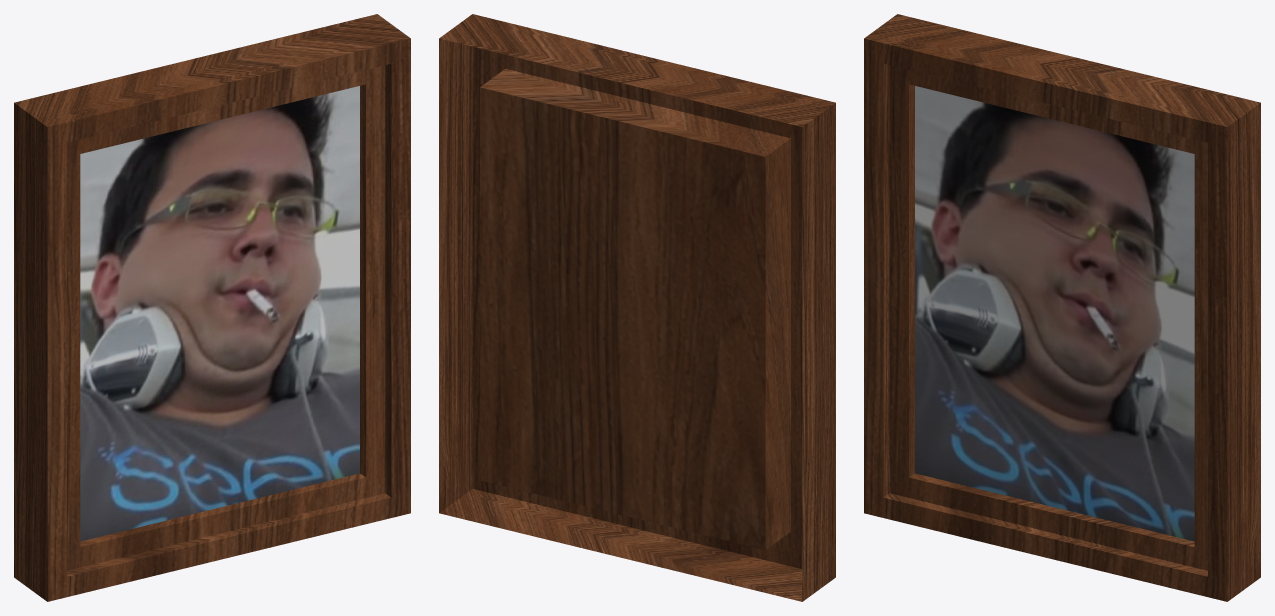
File: PROP_quadro_1.glb
The picture shows the model from 3 angles, left to right: view 1: azimuth 30°, elevation 25°; view 2: azimuth 150°, elevation 25°; view 3: azimuth 330°, elevation 25°; orthographic projection.
Visible parts, largest first — view 1: Cube.009, Cube.008; view 2: Cube.008; view 3: Cube.009, Cube.008.
Boxes of the visible parts, x1,y1,x2,y2 form: Cube.009: (80, 86, 359, 541); Cube.008: (14, 14, 410, 601); Cube.008: (439, 14, 835, 601); Cube.009: (915, 86, 1194, 541); Cube.008: (864, 14, 1260, 601).
Bounding box in the file's own units: 0.5622 × 0.7018 × 0.0898.
2 materials, 2 textured.
